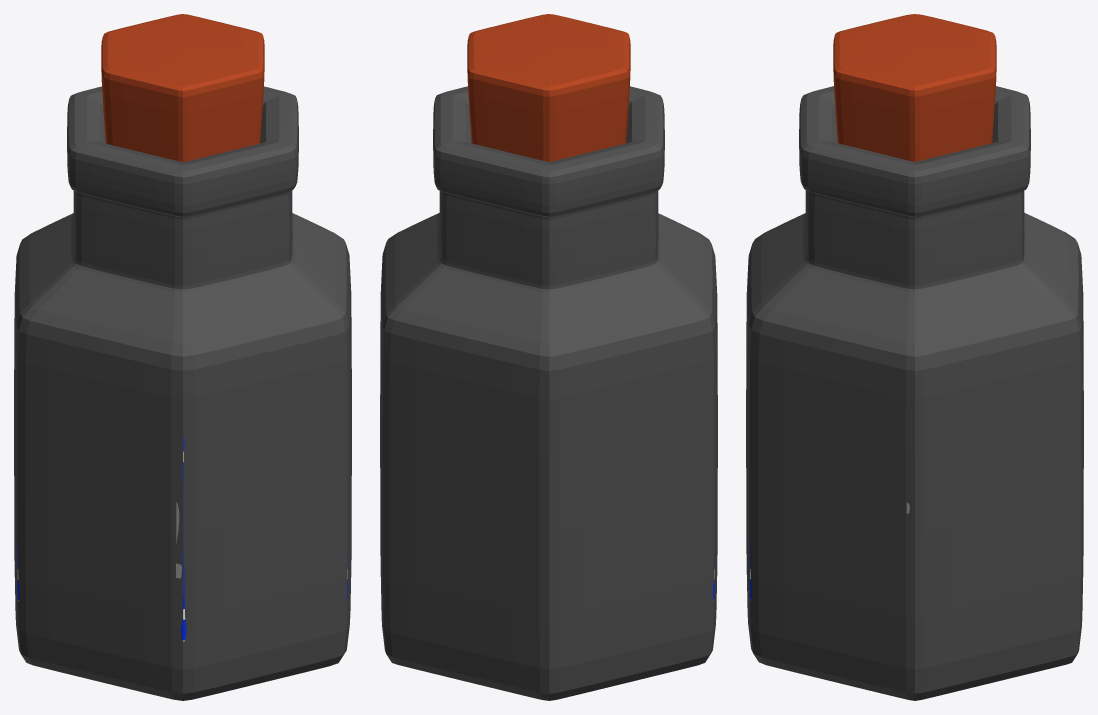
Rendered from Milk.obj.
3 renders of one model, left to right at view 1: azimuth 30°, elevation 25°; view 2: azimuth 150°, elevation 25°; view 3: azimuth 270°, elevation 25°, orthographic.
Visible parts, largest first — view 1: Cylinder.008, Cylinder.010, Cylinder.011; view 2: Cylinder.008, Cylinder.010; view 3: Cylinder.008, Cylinder.010.
Part boxes in pixels (x1,y1,x2,y2): Cylinder.008: (14, 86, 351, 700); Cylinder.010: (101, 14, 264, 161); Cylinder.011: (17, 435, 348, 641); Cylinder.008: (380, 86, 717, 700); Cylinder.010: (467, 14, 630, 161); Cylinder.008: (746, 86, 1083, 700); Cylinder.010: (833, 14, 996, 161).
Bounding box in the file's own units: 2.05 × 3.41 × 1.81.
